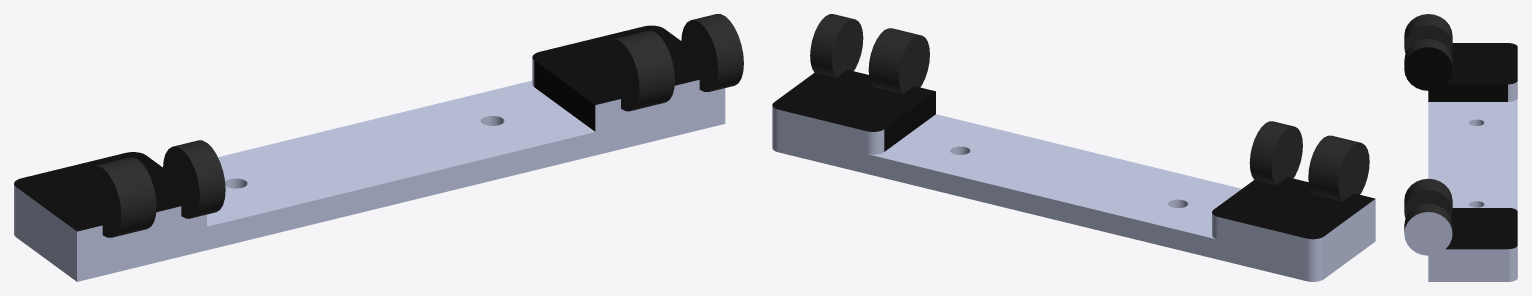
Rendered from Base bottom.dae.
3 views of the same model, side by side, from view 1: azimuth 30°, elevation 25°; view 2: azimuth 150°, elevation 25°; view 3: azimuth 270°, elevation 25° (orthographic). The views are drawn at different scales.
Visible parts, largest first — view 1: Actor0; view 2: Actor0; view 3: Actor0.
Boxes of the visible parts, x1,y1,x2,y2 form: Actor0: [14, 14, 743, 281]; Actor0: [772, 14, 1375, 281]; Actor0: [1404, 14, 1517, 281].
Bounding box in the file's own units: 0.202 × 0.032 × 0.047.
